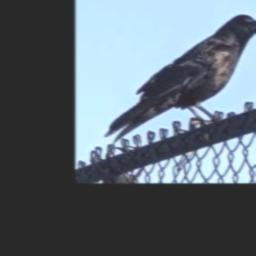Crow: (104, 14, 256, 144)
